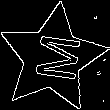M_W: (24, 31, 81, 85)
